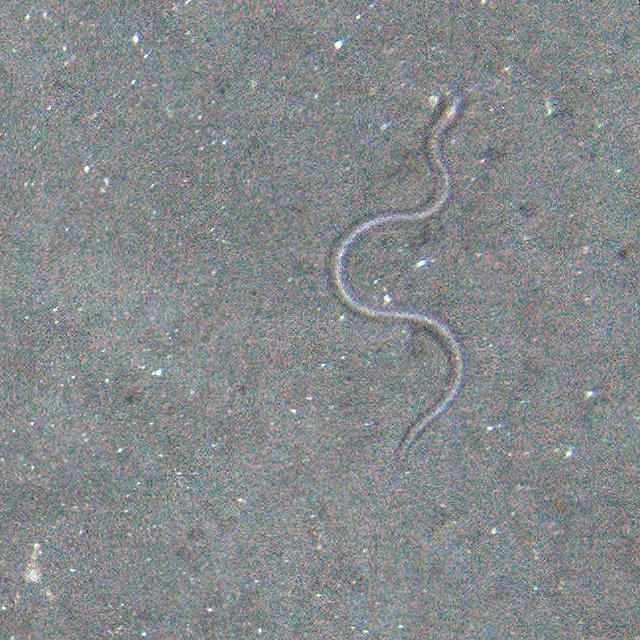eel: (322, 98, 477, 460)
